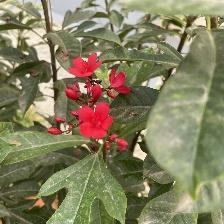jatropha: (79, 103, 114, 141)
